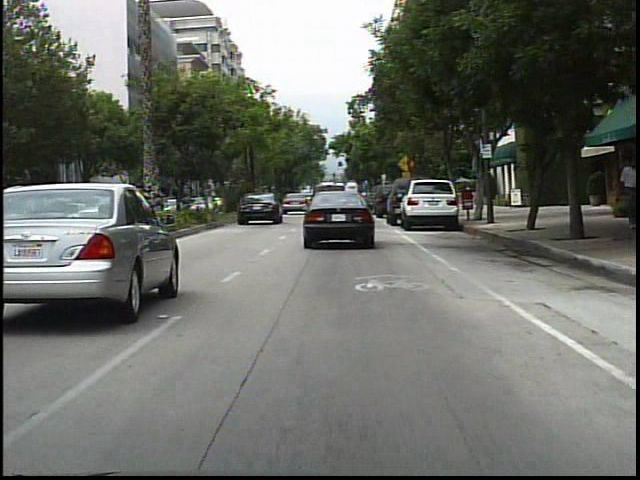person: (609, 157, 636, 230)
